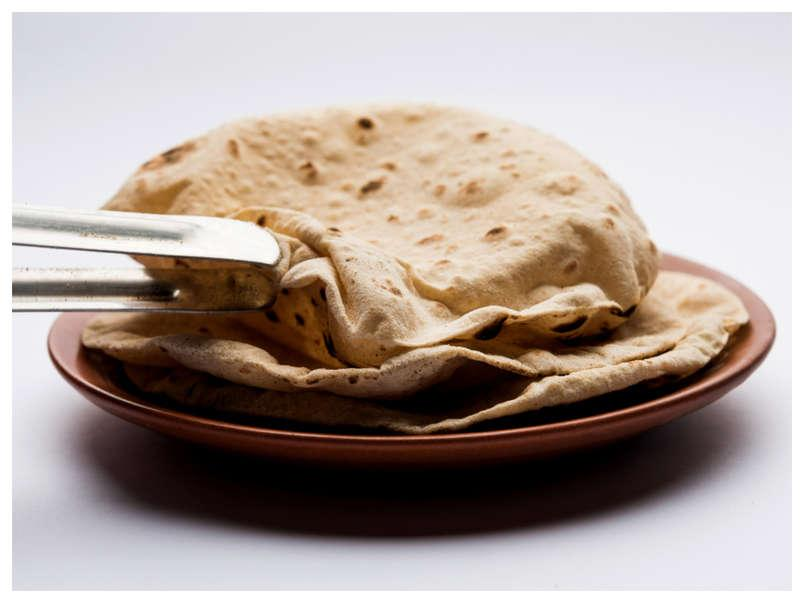roti: (89, 101, 742, 433)
